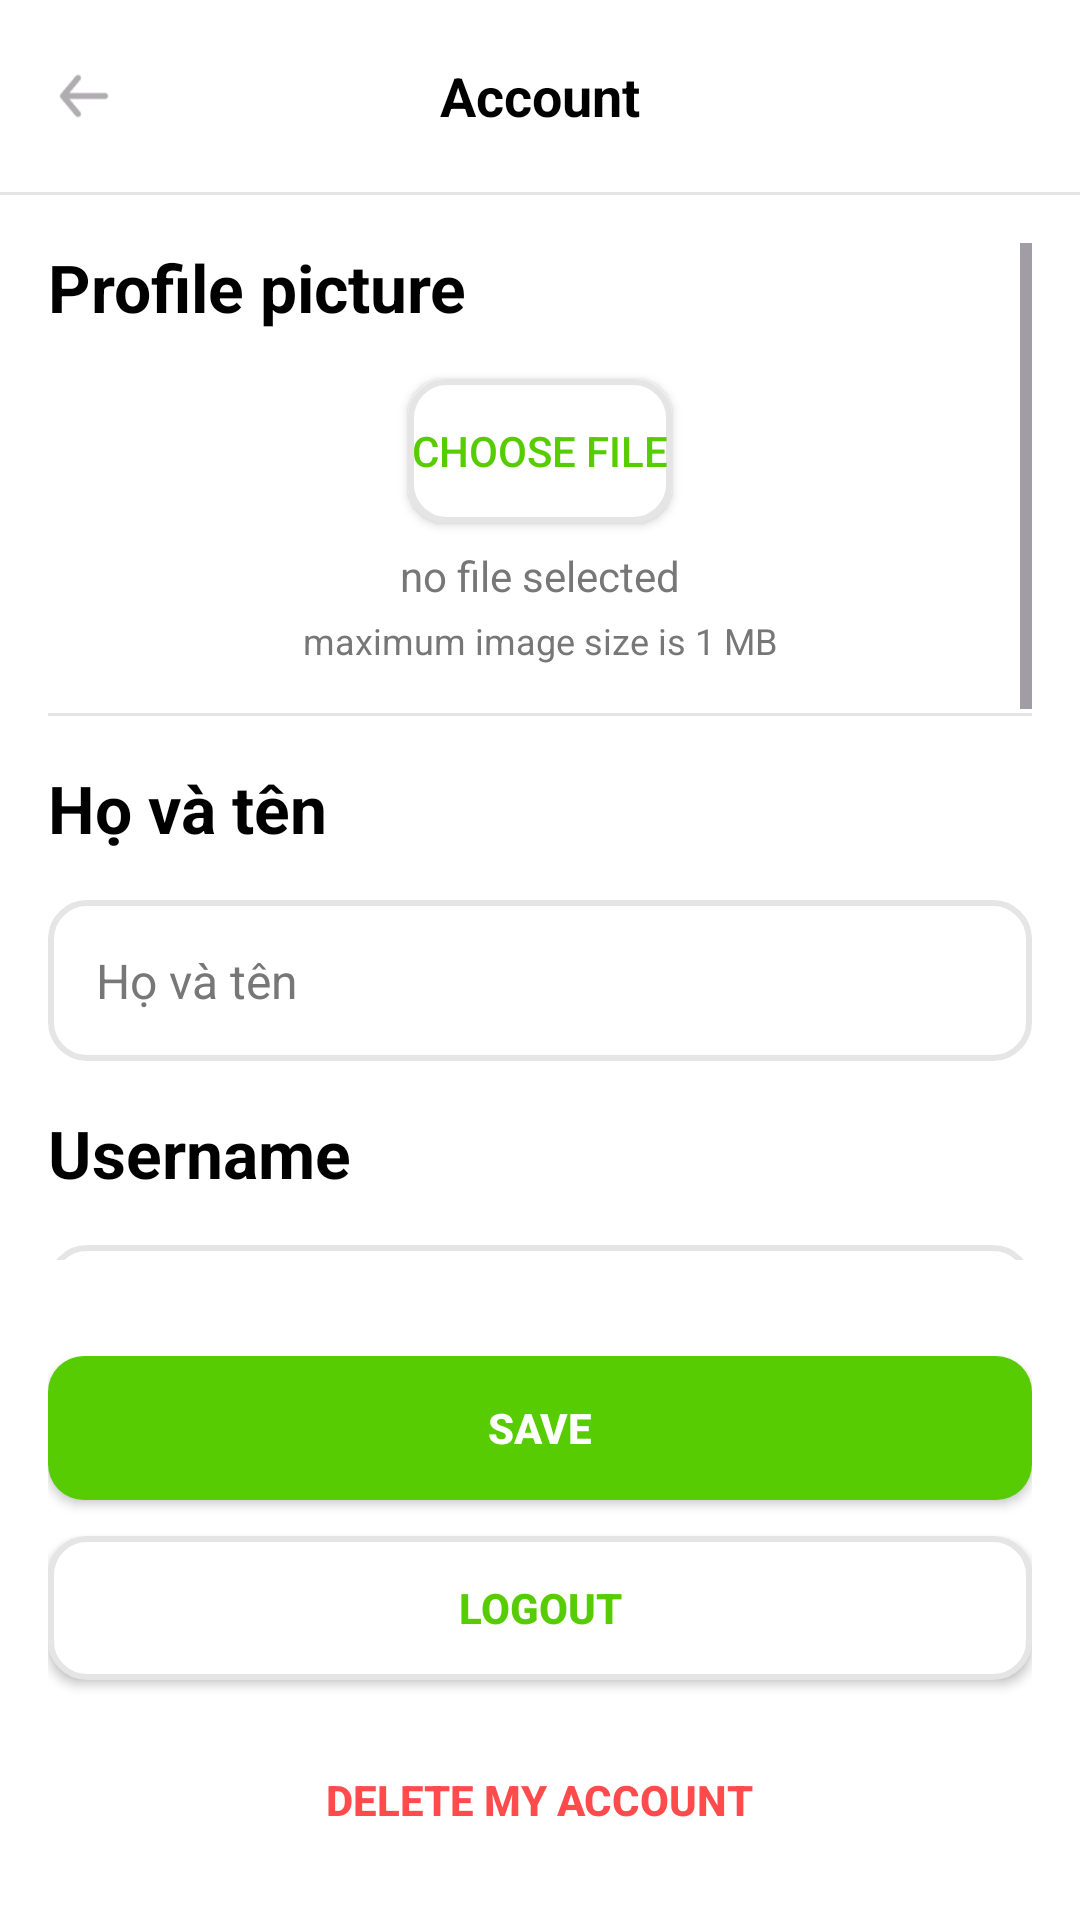

Icons on this 1080 × 1920 Android screen, each with the point to tap as point (x, y):
back arrow: point (84, 96)
